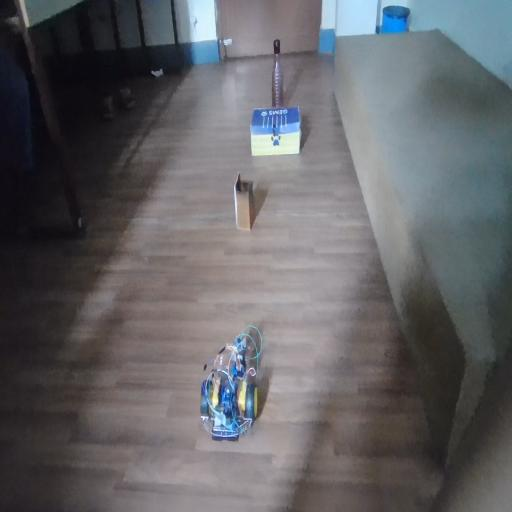Bottle: (266, 31, 292, 107)
car: (192, 310, 276, 437)
